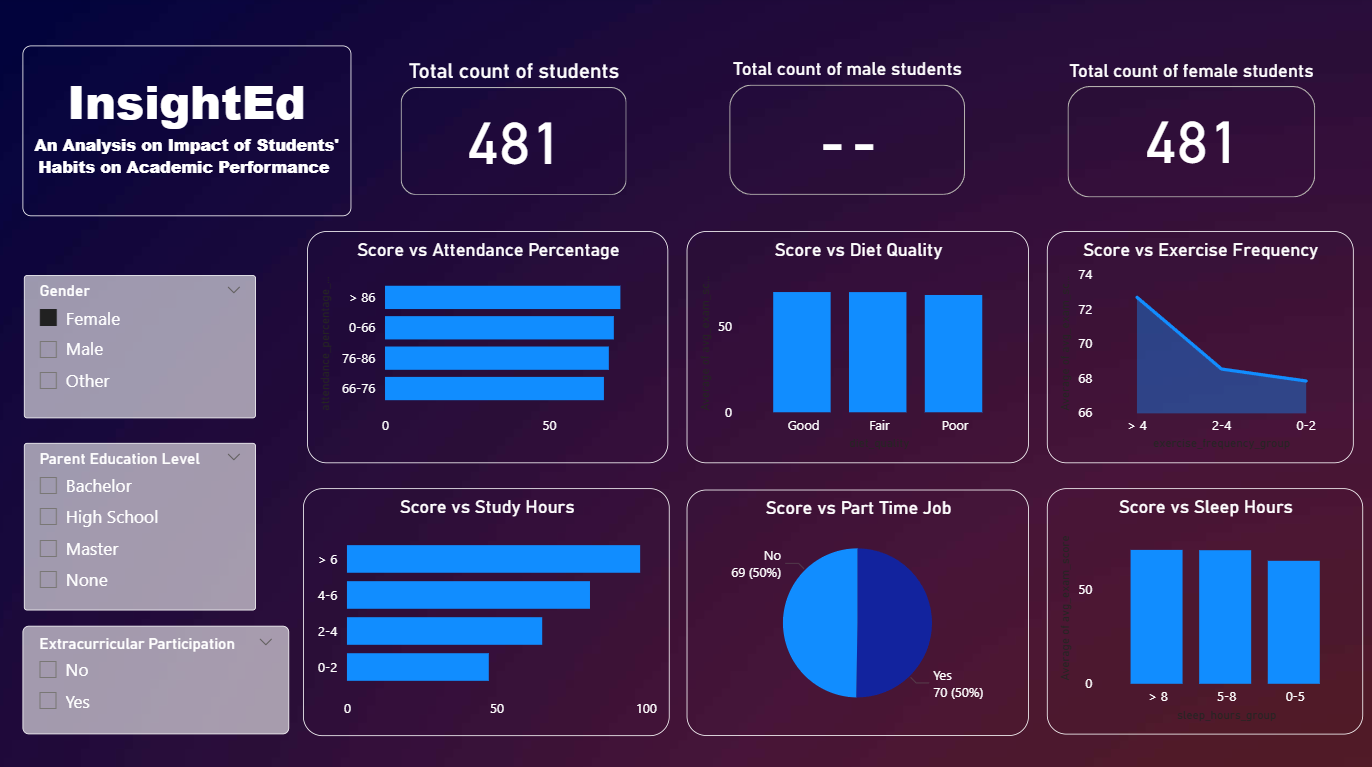

The dashboard page shown, as its layout file describes it:
{"tool":"powerbi","page":{"name":"Page 1","canvas":[1280,720],"ordinal":0},"visuals":[{"type":"cardVisual","title":"Total count of students","fields":{"Data":["Sum(dataset.count_of_students)"]},"box":[369.9,57.2,219.9,132.2],"z":0},{"type":"cardVisual","title":"Total count of female students","fields":{"Data":["Sum(dataset.count_of_students)"]},"box":[985.8,58.5,239.5,133],"z":1000},{"type":"cardVisual","title":"Total count of male students","fields":{"Data":["Sum(dataset.count_of_students)"]},"box":[673.1,57.2,228.8,131.7],"z":2000},{"type":"barChart","title":"Score vs Attendance Percentage","fields":{"Category":["dataset.attendance_percentage_group"],"Y":["Avg(dataset.avg_exam_score)"]},"box":[288.7,216.8,333.9,214.2],"z":3000},{"type":"clusteredColumnChart","title":"Score vs Diet Quality","fields":{"Y":["Avg(dataset.avg_exam_score)"],"Category":["dataset.diet_quality"]},"box":[639.9,216.8,316.6,214.2],"z":4000},{"type":"stackedAreaChart","title":"Score vs Exercise Frequency","fields":{"Category":["dataset.exercise_frequency_group"],"Y":["Avg(dataset.avg_exam_score)"]},"box":[972.5,216.8,283.4,214.2],"z":5000},{"type":"barChart","title":"Score vs Study Hours","fields":{"Category":["dataset.study_hours_per_day_group"],"Y":["Avg(dataset.avg_exam_score)"]},"box":[284.7,455,339.2,228.8],"z":6000},{"type":"pieChart","title":"Score vs Part Time Job","fields":{"Category":["dataset.part_time_job"],"Y":["Avg(dataset.avg_exam_score)"]},"box":[639.9,456.3,316.6,227.5],"z":7000},{"type":"clusteredColumnChart","title":"Score vs Sleep Hours","fields":{"Y":["Avg(dataset.avg_exam_score)"],"Category":["dataset.sleep_hours_group"]},"box":[972.5,455,292.7,227.5],"z":8000},{"type":"slicer","fields":{"Values":["dataset.gender"]},"box":[26.7,258,214.8,132.2],"z":9000},{"type":"slicer","fields":{"Values":["dataset.parental_education_level"]},"box":[26.7,413.1,214.8,155.1],"z":10000},{"type":"slicer","fields":{"Values":["dataset.extracurricular_participation"]},"box":[25.4,582.1,246.6,100.4],"z":11000},{"type":"textbox","box":[25.4,45.8,303.8,157.6],"z":12000}]}

Visuals, with their boxes in screenshot pixels (x1, y1, x2, y2), scaled from the page's 1280x720 canvas onto the 1372x767 screenshot:
"Total count of students" cardVisual: {"left": 396, "top": 61, "right": 632, "bottom": 202}
"Total count of female students" cardVisual: {"left": 1057, "top": 62, "right": 1313, "bottom": 204}
"Total count of male students" cardVisual: {"left": 721, "top": 61, "right": 967, "bottom": 201}
"Score vs Attendance Percentage" barChart: {"left": 309, "top": 231, "right": 667, "bottom": 459}
"Score vs Diet Quality" clusteredColumnChart: {"left": 686, "top": 231, "right": 1025, "bottom": 459}
"Score vs Exercise Frequency" stackedAreaChart: {"left": 1042, "top": 231, "right": 1346, "bottom": 459}
"Score vs Study Hours" barChart: {"left": 305, "top": 485, "right": 669, "bottom": 728}
"Score vs Part Time Job" pieChart: {"left": 686, "top": 486, "right": 1025, "bottom": 728}
"Score vs Sleep Hours" clusteredColumnChart: {"left": 1042, "top": 485, "right": 1356, "bottom": 727}
slicer - dataset.gender: {"left": 29, "top": 275, "right": 259, "bottom": 416}
slicer - dataset.parental_education_level: {"left": 29, "top": 440, "right": 259, "bottom": 605}
slicer - dataset.extracurricular_participation: {"left": 27, "top": 620, "right": 292, "bottom": 727}
textbox: {"left": 27, "top": 49, "right": 353, "bottom": 217}
